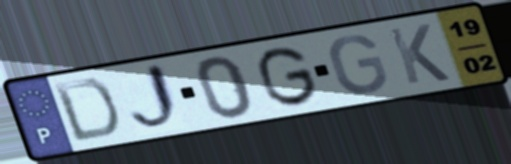0: (194, 54, 257, 122)
D: (49, 76, 122, 145)
G: (256, 44, 322, 109), (326, 33, 391, 96)
J: (127, 60, 187, 136)
K: (384, 21, 454, 87)
